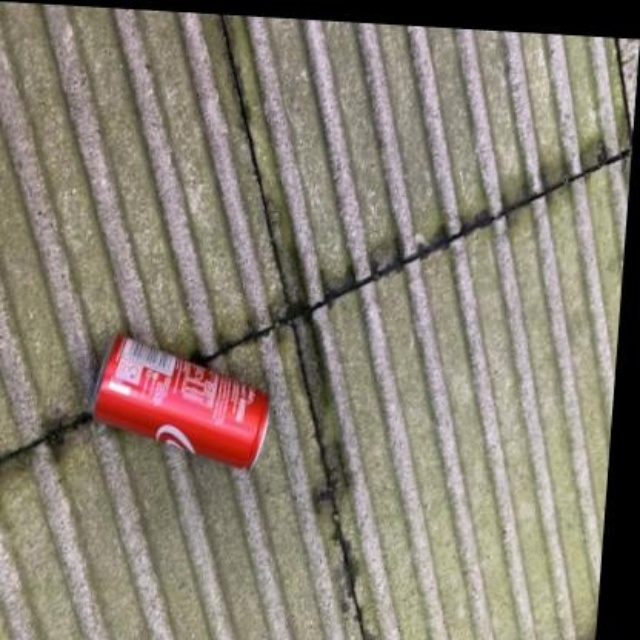trash: (94, 334, 266, 466)
